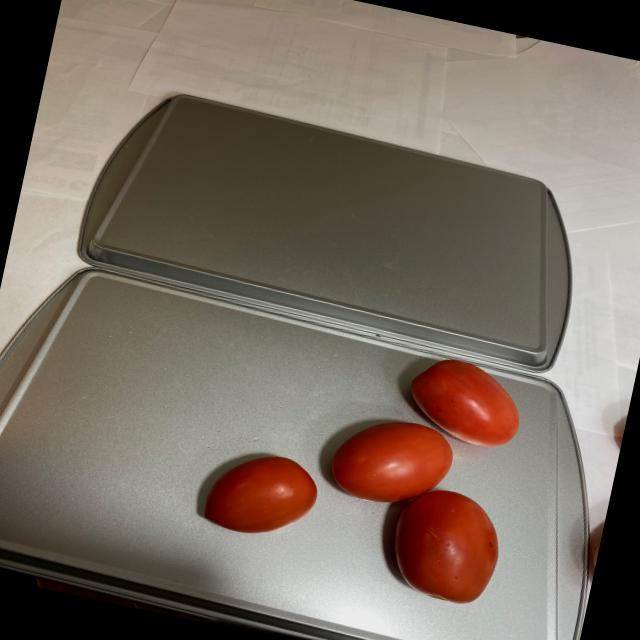tomato: (178, 312, 540, 612)
